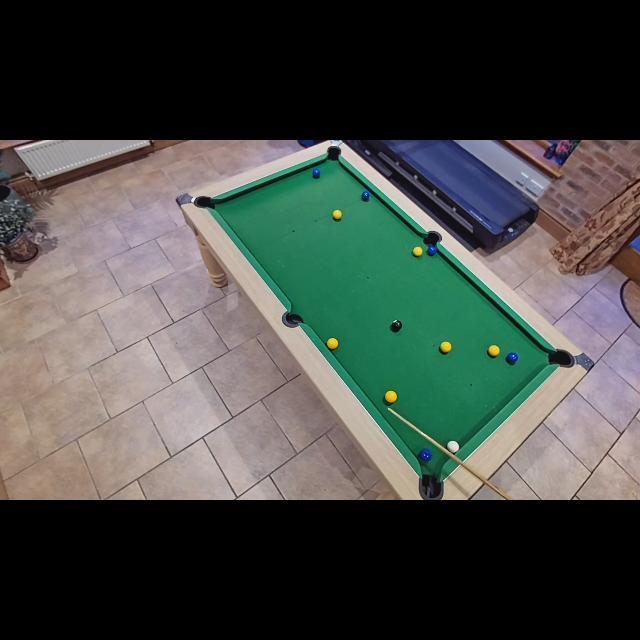Ball: (418, 448, 432, 462), (506, 352, 518, 366), (488, 344, 500, 358), (446, 441, 459, 453), (385, 390, 397, 402), (327, 338, 338, 348), (441, 342, 452, 352), (413, 247, 423, 257), (332, 209, 342, 219), (426, 246, 436, 256), (312, 168, 322, 178), (392, 320, 402, 330), (362, 191, 370, 201)
